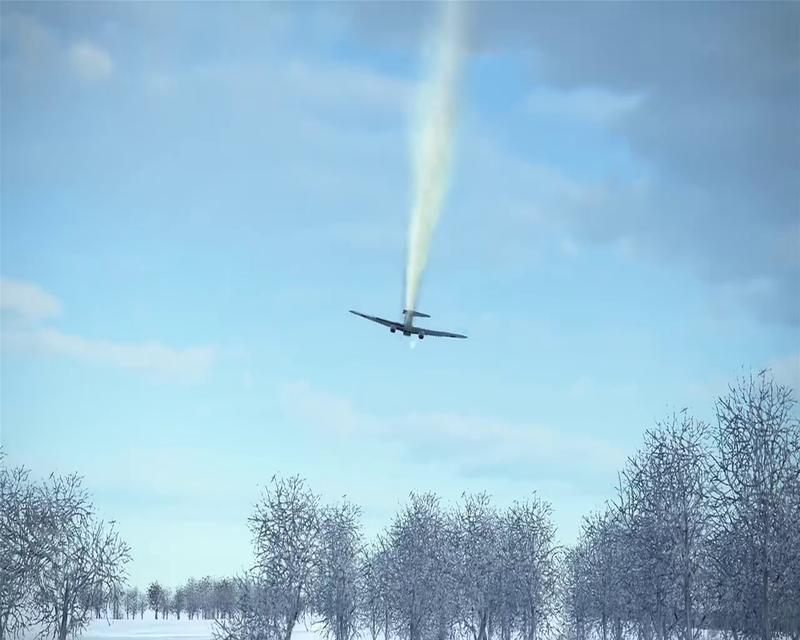UAV: (347, 307, 468, 341)
